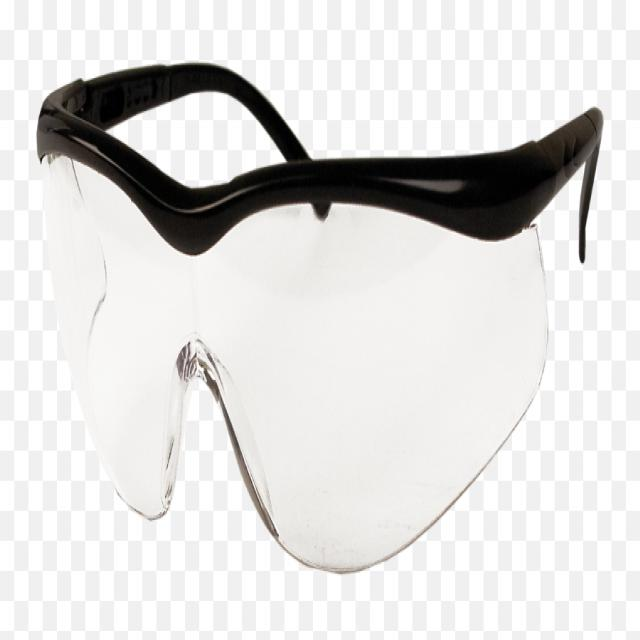Protective Glasses: (13, 42, 607, 598)
